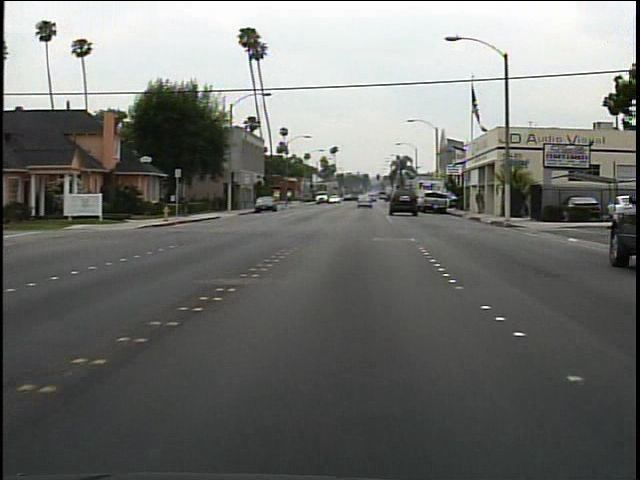person: (473, 187, 491, 218)
